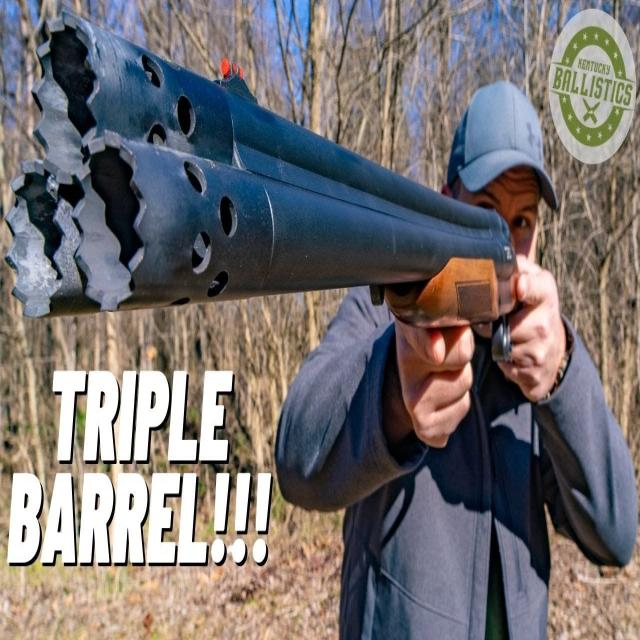Weapon: (4, 1, 548, 384)
